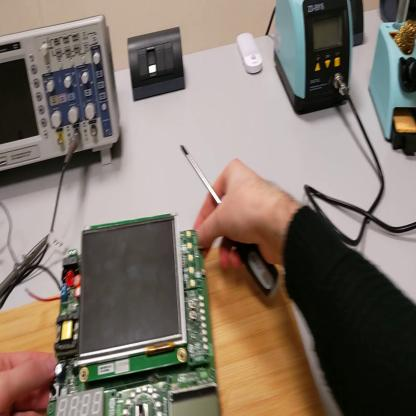hand: (193, 158, 285, 272), (1, 356, 58, 415)
low voltage board: (20, 216, 222, 416)
oscilloscope: (2, 12, 117, 184)
oscilloscope probe tip: (3, 233, 48, 299)
screwdriver-: (182, 141, 282, 302)
socket: (381, 5, 415, 22), (354, 2, 365, 50)
welder base: (372, 4, 416, 157)
welder station: (277, 2, 355, 114)
working area: (1, 249, 321, 416)
